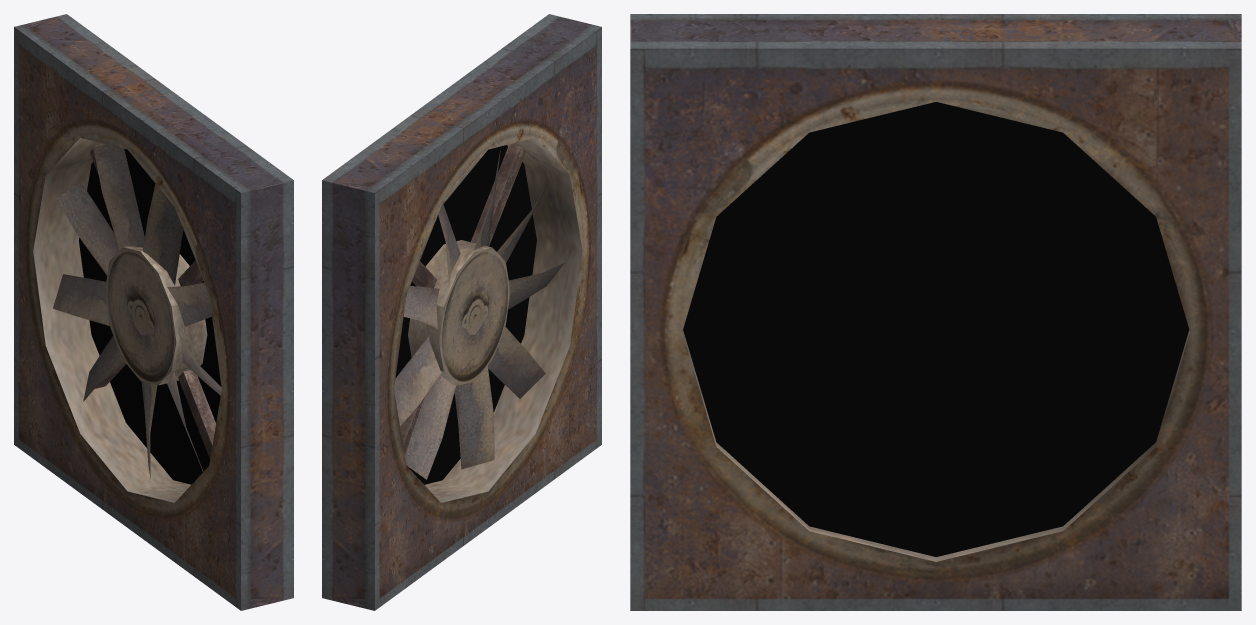
The model's file is Fan_v1_1.FBX.
3 renders of one model, left to right at view 1: azimuth 30°, elevation 25°; view 2: azimuth 150°, elevation 25°; view 3: azimuth 270°, elevation 25°, orthographic. The views are drawn at different scales.
Visible parts, largest first — view 1: Fan_v1_1_frame, Fan_v1_1_blades, Fan_v1_1_bb; view 2: Fan_v1_1_frame, Fan_v1_1_blades, Fan_v1_1_bb; view 3: Fan_v1_1_frame, Fan_v1_1_bb.
Part boxes in pixels (<box>): Fan_v1_1_frame: <box>14,14,293,610</box>; Fan_v1_1_blades: <box>53,144,221,481</box>; Fan_v1_1_bb: <box>78,148,221,484</box>; Fan_v1_1_frame: <box>322,14,601,610</box>; Fan_v1_1_blades: <box>394,150,564,479</box>; Fan_v1_1_bb: <box>395,145,536,484</box>; Fan_v1_1_frame: <box>630,14,1241,610</box>; Fan_v1_1_bb: <box>683,102,1189,556</box>.
Size of the model in its own units: 0.2188 by 1.65 by 1.63.
